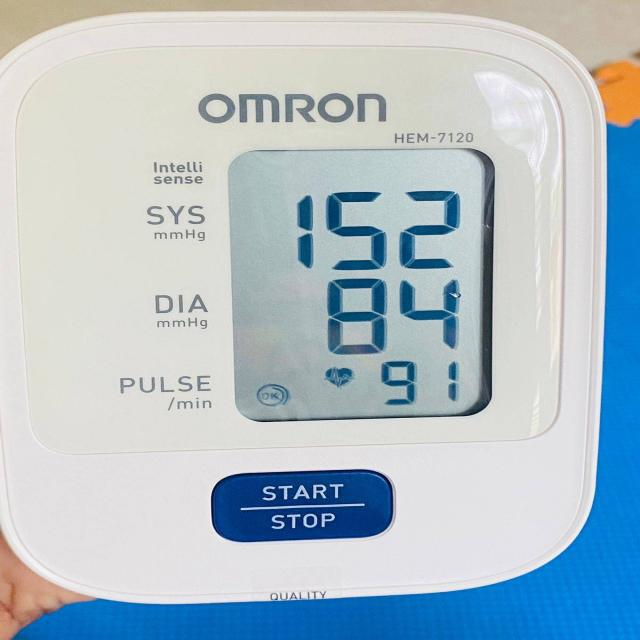bp: (0, 9, 608, 604)
